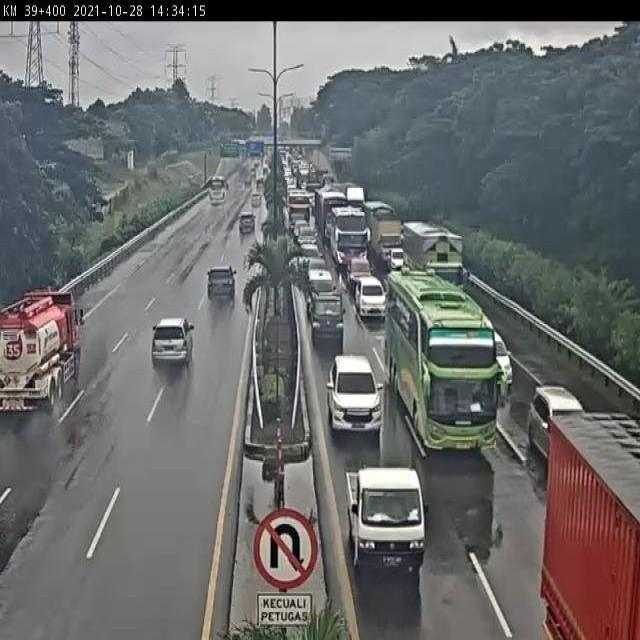big bus: (383, 270, 494, 450), (330, 208, 366, 265), (286, 190, 312, 230)
big truck: (0, 285, 85, 416), (403, 218, 464, 290), (319, 194, 345, 238)
car: (341, 461, 424, 572), (327, 359, 383, 436), (524, 379, 578, 453), (152, 316, 194, 368), (308, 292, 346, 344), (353, 272, 387, 320), (487, 324, 509, 385), (206, 262, 240, 298), (308, 275, 341, 309), (347, 255, 370, 289), (304, 255, 329, 281), (387, 246, 408, 274), (297, 234, 317, 258), (293, 218, 316, 238), (237, 212, 255, 236)
small truck: (368, 212, 404, 264)
